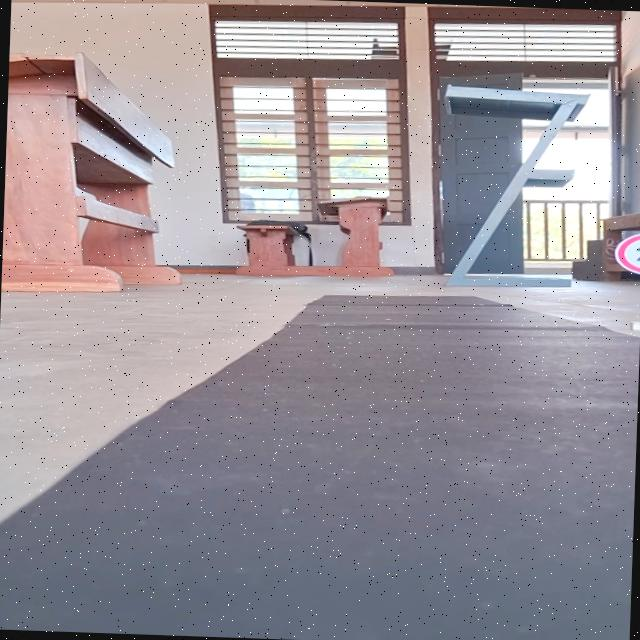Speed20: (610, 226, 640, 276)
